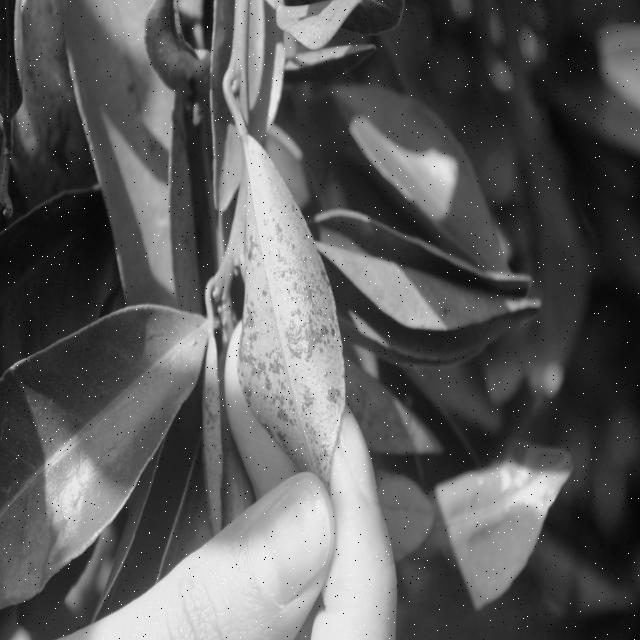melanose: (225, 125, 357, 473)
